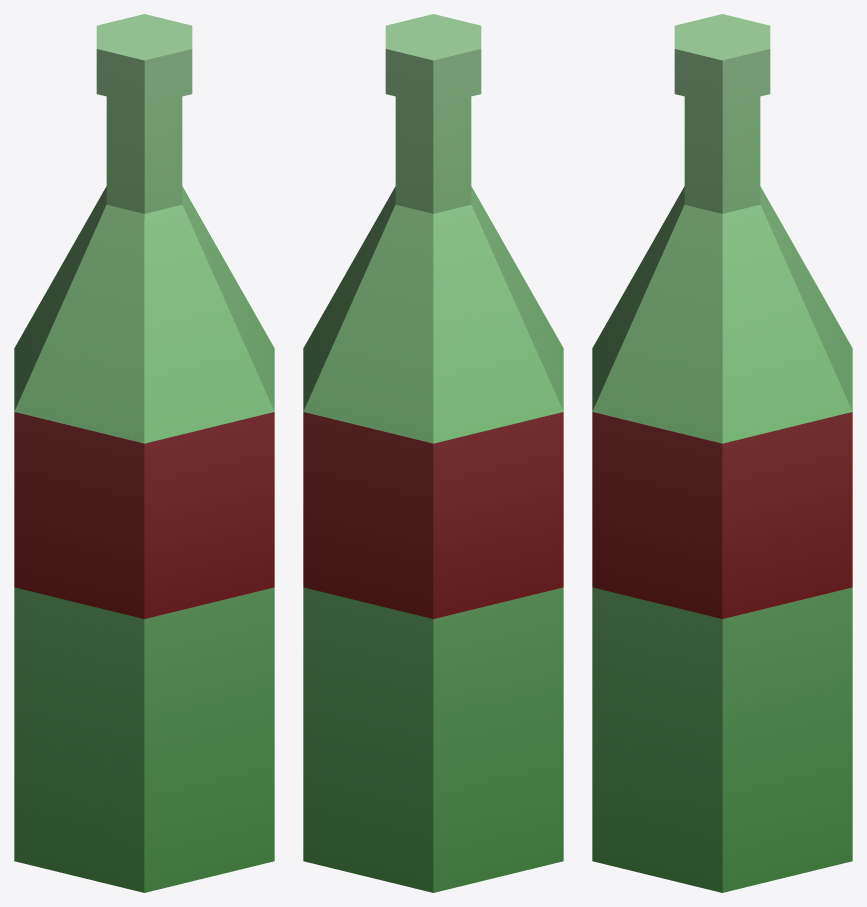
File: bottiglia.fbx
The picture shows the model from 3 angles, left to right: view 1: azimuth 30°, elevation 25°; view 2: azimuth 150°, elevation 25°; view 3: azimuth 270°, elevation 25°; orthographic projection.
Visible parts, largest first — view 1: bottiglia; view 2: bottiglia; view 3: bottiglia.
Boxes of the visible parts, box(x1,y1,x2,y2) form: bottiglia: box(14, 14, 274, 892); bottiglia: box(303, 14, 563, 892); bottiglia: box(592, 14, 852, 892).
Bounding box in the file's own units: 35.4 × 103 × 30.65.
